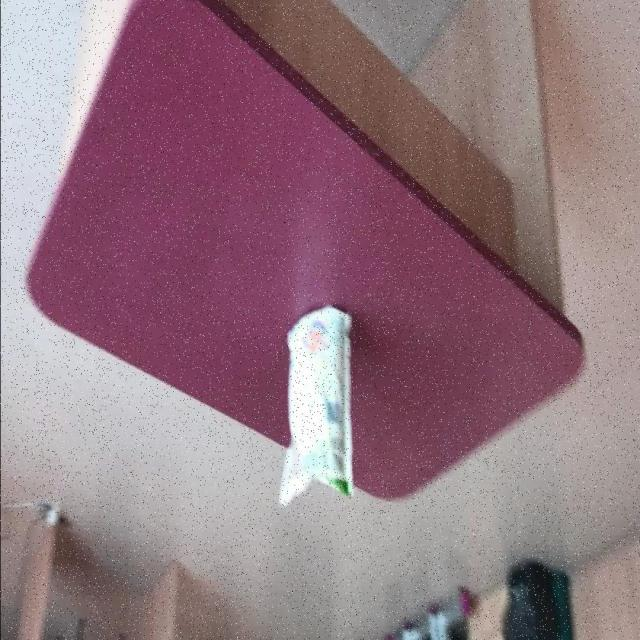CornFlakes: (27, 0, 586, 505), (278, 305, 355, 508)
